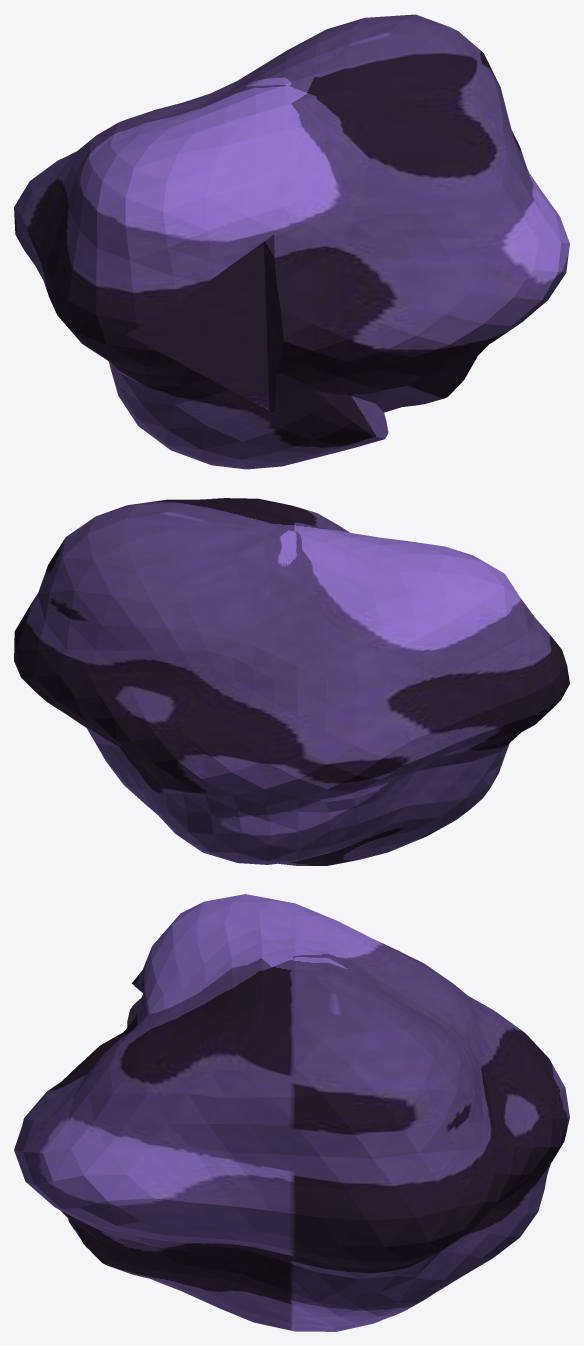
3 views of the same model, one above another, from view 1: azimuth 30°, elevation 25°; view 2: azimuth 150°, elevation 25°; view 3: azimuth 270°, elevation 25° (orthographic). The views are drawn at different scales.
Visible parts, largest first — view 1: geometry_0; view 2: geometry_0; view 3: geometry_0.
Boxes of the visible parts, <box> form: geometry_0: <box>14,14,569,469</box>; geometry_0: <box>14,498,569,865</box>; geometry_0: <box>14,894,569,1331</box>.
Bounding box in the file's own units: 2.34 × 1.58 × 2.15.
Materials: 1 (1 with a texture image).
